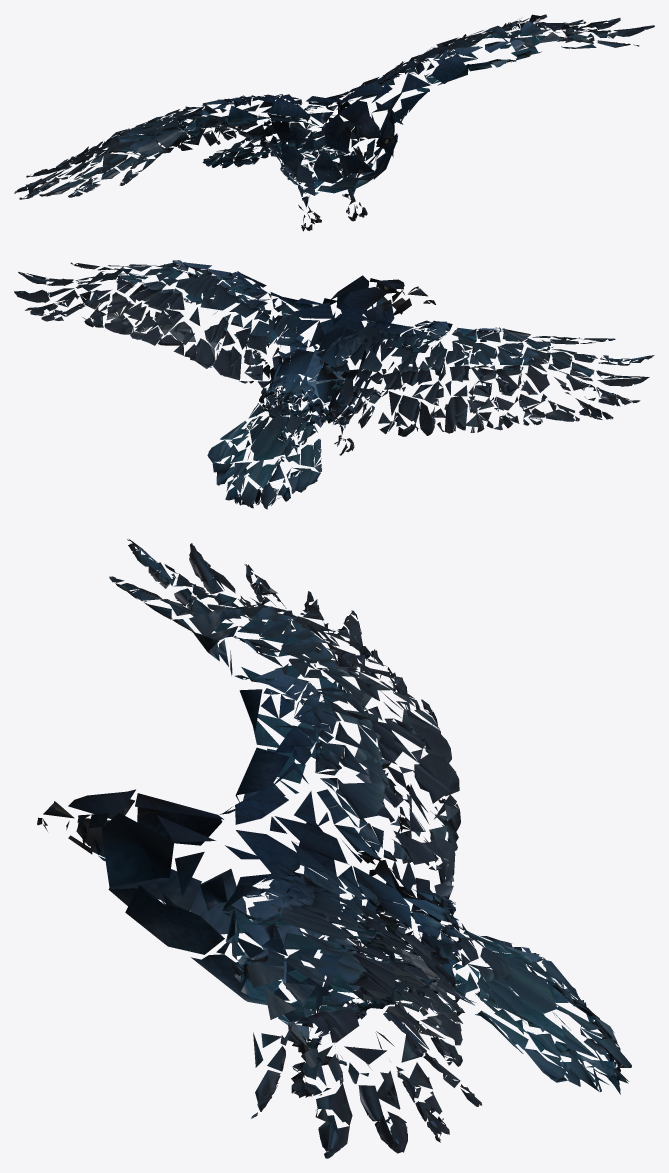
File: CrowMeshy_low.fbx
3 views of the same model, one above another, from view 1: azimuth 30°, elevation 25°; view 2: azimuth 150°, elevation 25°; view 3: azimuth 270°, elevation 25° (orthographic). The views are drawn at different scales.
Parts seen in each view (by area): view 1: Mesh_0; view 2: Mesh_0; view 3: Mesh_0.
Boxes of the visible parts, x1,y1,x2,y2 form: Mesh_0: (14,14,654,231); Mesh_0: (14,260,654,509); Mesh_0: (37,539,631,1158).
Size of the model in its own units: 190 by 44.2 by 81.32.
1 material, 1 textured.
